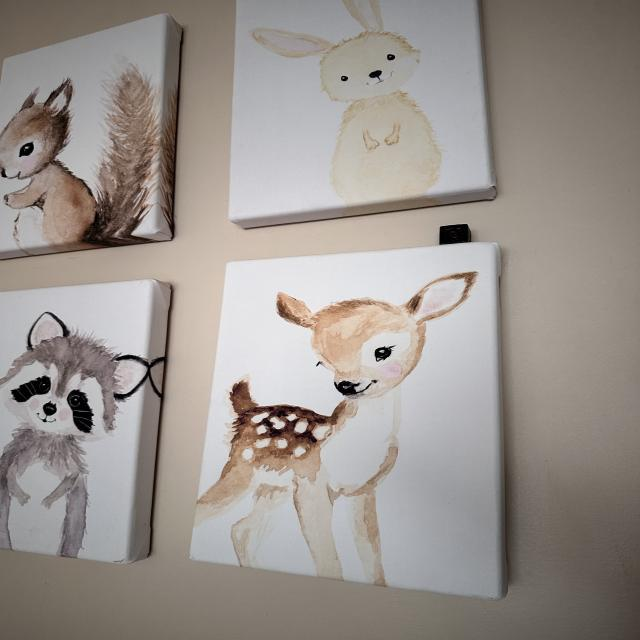hidden camera: (448, 230, 459, 239)
